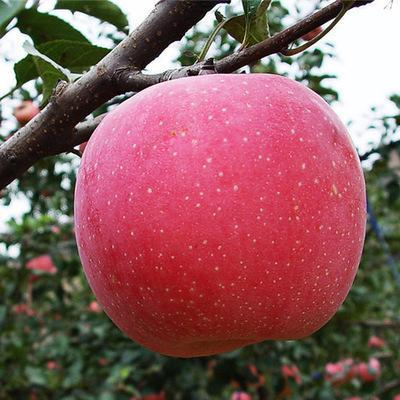apple: (73, 73, 366, 352)
